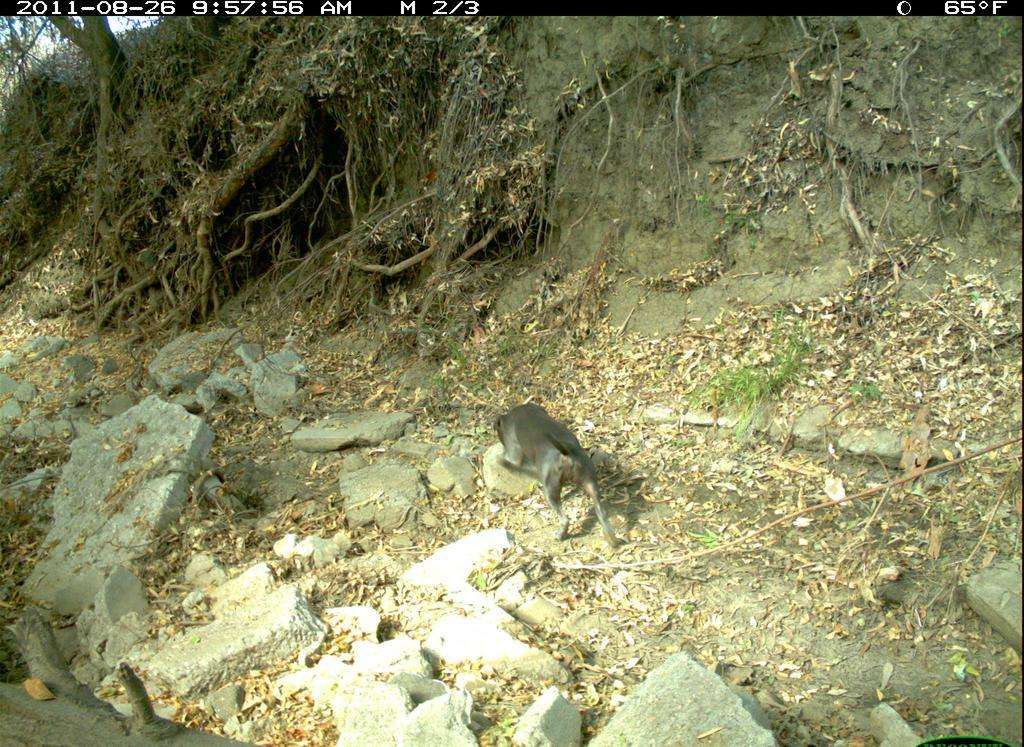dog: (472, 395, 632, 559)
